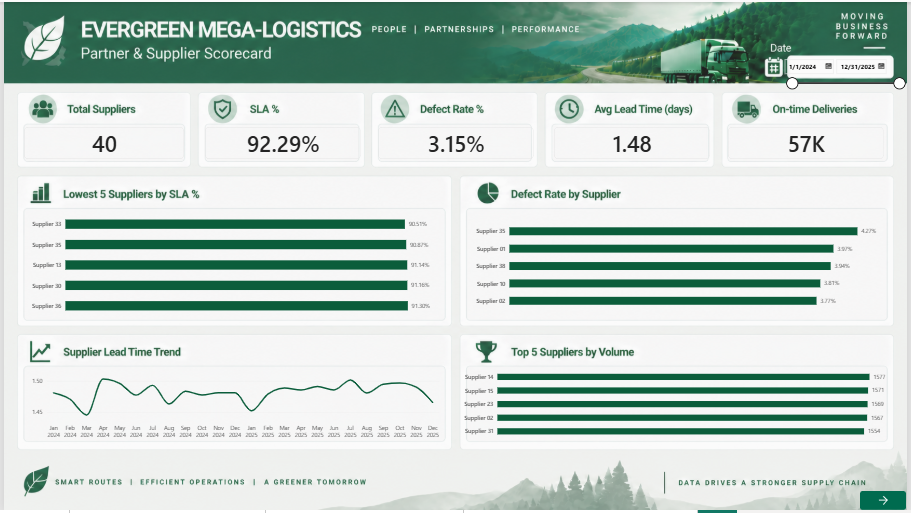

What the dashboard file says about the page in this screenshot:
{"tool":"powerbi","page":{"name":"Partner & Supplier Scorecard","canvas":[1920,1080],"ordinal":2},"visuals":[{"type":"cardVisual","fields":{"Data":["Measures (2).Total Suppliers"]},"box":[42.5,265.7,340.2,68],"z":0},{"type":"cardVisual","fields":{"Data":["Measures (2).SLA %"]},"box":[427.3,265.7,331.7,68],"z":1000},{"type":"cardVisual","fields":{"Data":["Measures (2).Defect Rate %"]},"box":[795.1,265.7,331.7,68],"z":2000},{"type":"cardVisual","fields":{"Data":["Measures (2).Avg Lead Time"]},"box":[1169.3,265.7,331.7,68],"z":3000},{"type":"cardVisual","fields":{"Data":["Measures (2).On-time Deliveries"]},"box":[1539.2,265.7,331.7,68],"z":4000},{"type":"clusteredBarChart","fields":{"Category":["evergreen_mega_logistics dim_suppliers.Supplier_Name"],"Y":["Measures (2).SLA Compliance %"]},"box":[42.5,423.1,901.4,267.9],"z":5000},{"type":"clusteredBarChart","fields":{"Category":["evergreen_mega_logistics dim_suppliers.Supplier_Name"],"Y":["Measures (2).Defect Rate %"]},"box":[986.5,442.2,884.4,233.9],"z":6000},{"type":"lineChart","fields":{"Category":["evergreen_mega_logistics dim_date.Month_Year"],"Y":["Measures (2).Avg Lead Time"]},"box":[42.8,757.7,901.1,190.5],"z":7000},{"type":"clusteredBarChart","fields":{"Category":["evergreen_mega_logistics dim_suppliers.Supplier_Name"],"Y":["Measures (2).Total Shipments"]},"box":[960.9,756.9,929.1,191.3],"z":8000},{"type":"slicer","fields":{"Values":["evergreen_mega_logistics dim_date.Date"]},"box":[1652.4,117.7,267.6,72.8],"z":9000},{"type":"actionButton","box":[1819.8,1039.6,97.8,40.4],"z":10000}]}

Visuals, with their boxes in screenshot pixels (x1, y1, x2, y2), scaled from the page's 1920x1080 canvas onto the 911x513 screenshot:
cardVisual - Measures (2).Total Suppliers: region(20, 126, 182, 159)
cardVisual - Measures (2).SLA %: region(203, 126, 360, 159)
cardVisual - Measures (2).Defect Rate %: region(377, 126, 535, 159)
cardVisual - Measures (2).Avg Lead Time: region(555, 126, 712, 159)
cardVisual - Measures (2).On-time Deliveries: region(730, 126, 888, 159)
clusteredBarChart - evergreen_mega_logistics dim_suppliers.Supplier_Name x Measures (2).SLA Compliance %: region(20, 201, 448, 328)
clusteredBarChart - evergreen_mega_logistics dim_suppliers.Supplier_Name x Measures (2).Defect Rate %: region(468, 210, 888, 321)
lineChart - evergreen_mega_logistics dim_date.Month_Year x Measures (2).Avg Lead Time: region(20, 360, 448, 450)
clusteredBarChart - evergreen_mega_logistics dim_suppliers.Supplier_Name x Measures (2).Total Shipments: region(456, 360, 897, 450)
slicer - evergreen_mega_logistics dim_date.Date: region(784, 56, 910, 90)
actionButton: region(863, 494, 910, 512)
